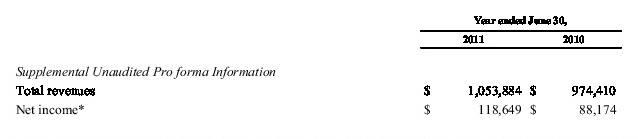table: (0, 0, 638, 139)
